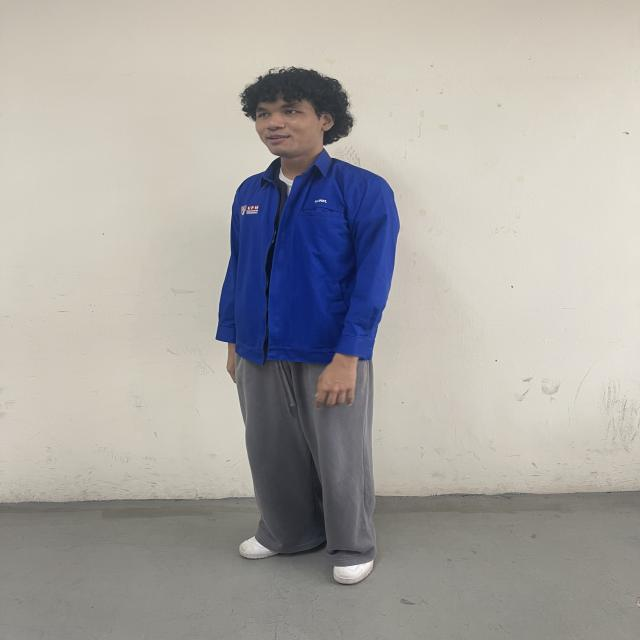person_with_labcoat: (216, 68, 400, 584)
